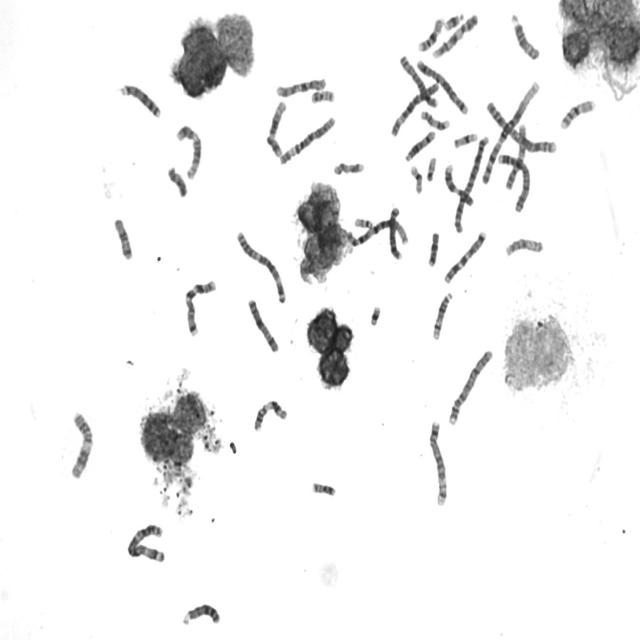A1: (479, 77, 542, 187), (344, 217, 412, 248)
A2: (483, 98, 557, 156), (452, 131, 491, 235)
A3: (234, 227, 288, 305), (125, 520, 166, 564)
B4: (446, 346, 494, 428), (496, 150, 532, 214)
B5: (414, 56, 470, 116), (426, 418, 449, 508)
C10: (502, 121, 530, 191), (274, 74, 327, 98)
C11: (67, 408, 94, 480), (252, 396, 288, 433)
C12: (174, 120, 203, 180), (264, 98, 288, 158)
C6: (277, 113, 337, 166), (388, 78, 440, 138)
C7: (442, 228, 488, 286), (182, 276, 218, 338)
C8: (397, 52, 440, 109), (386, 204, 404, 261)
C9: (430, 11, 480, 60), (442, 160, 476, 208)
D13: (118, 81, 162, 120), (180, 600, 221, 628)
D14: (430, 289, 454, 342), (402, 128, 437, 163)
D15: (509, 9, 541, 62), (502, 235, 544, 259)
E16: (558, 96, 597, 131), (416, 14, 446, 53)
E17: (418, 107, 451, 131), (331, 158, 366, 176)
E18: (111, 214, 134, 262), (426, 229, 440, 268)
F19: (451, 130, 479, 150), (408, 162, 424, 195)
F20: (310, 478, 337, 498), (309, 86, 336, 105)
G21: (442, 9, 465, 32), (368, 303, 382, 328)
G22: (424, 154, 438, 183), (352, 214, 374, 230)
X: (397, 52, 440, 109), (245, 296, 281, 354)
Y: (164, 163, 188, 199)
